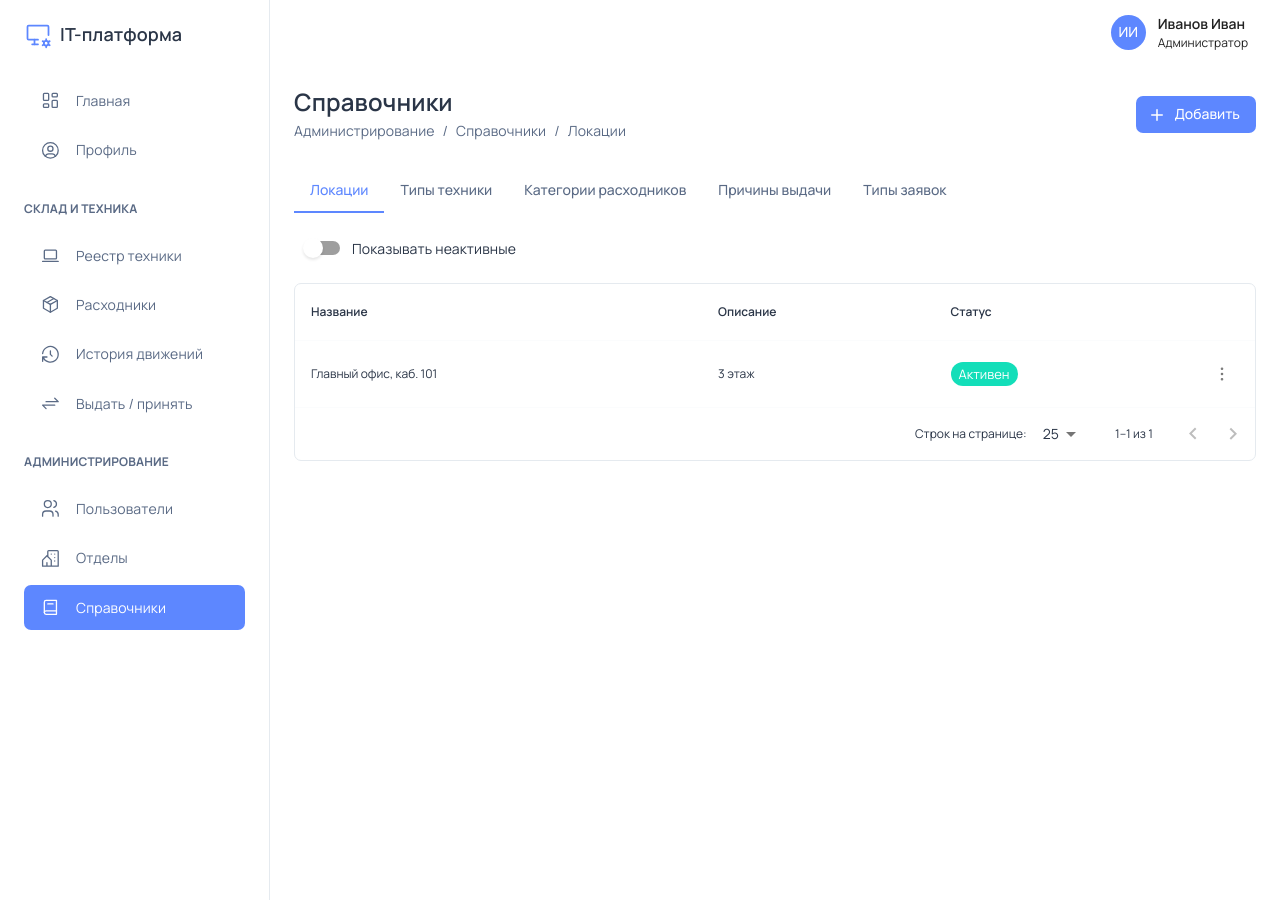
Test case: /admin/directories открывает локации, вкладки переключают справочник
Check: the text "Главный офис, каб. 101" is shown, box [295,341,702,408]
Click the tab "Типы техники" at (446, 189), box [384,165,508,213]
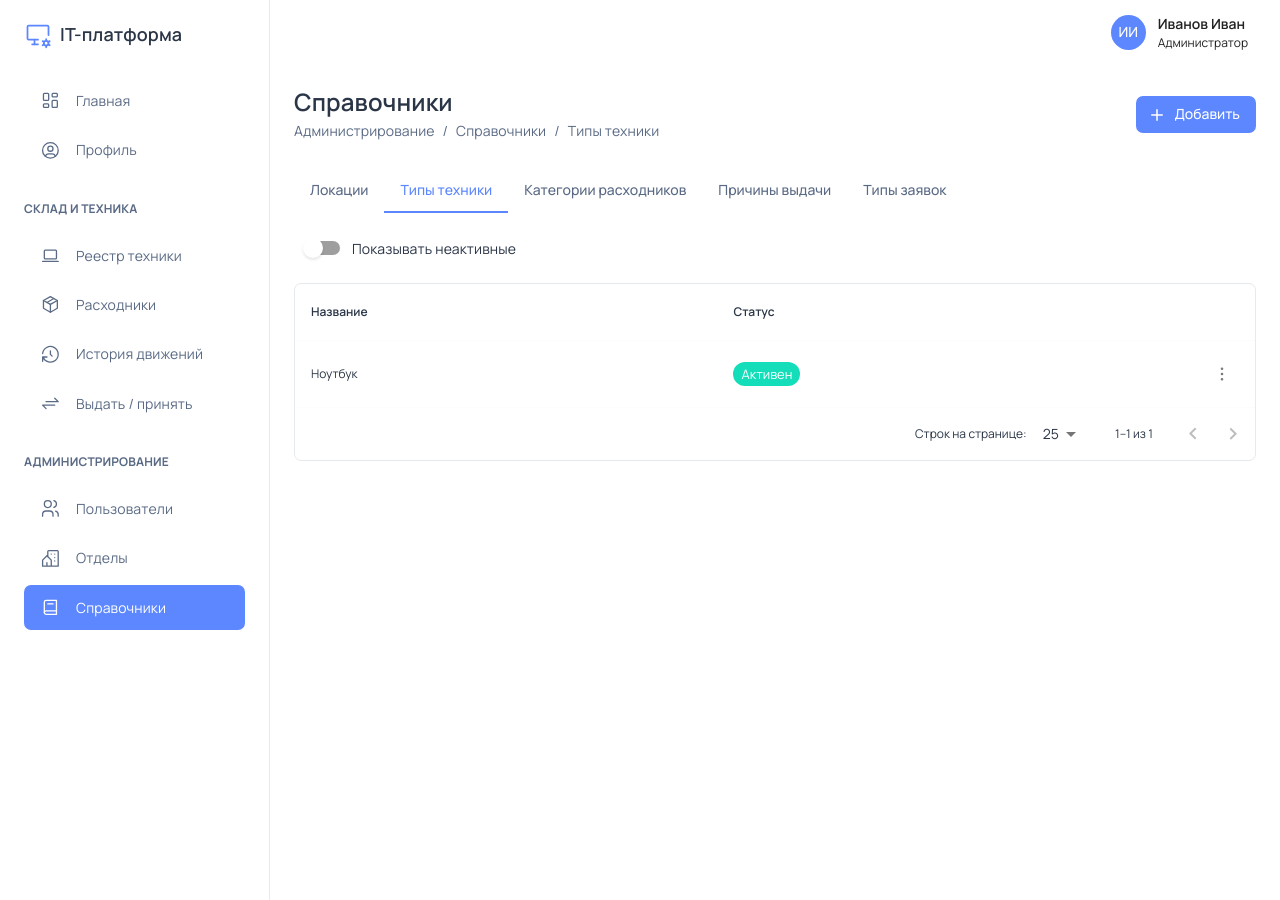
Check: the text "Ноутбук" is shown, box [295,341,718,408]
